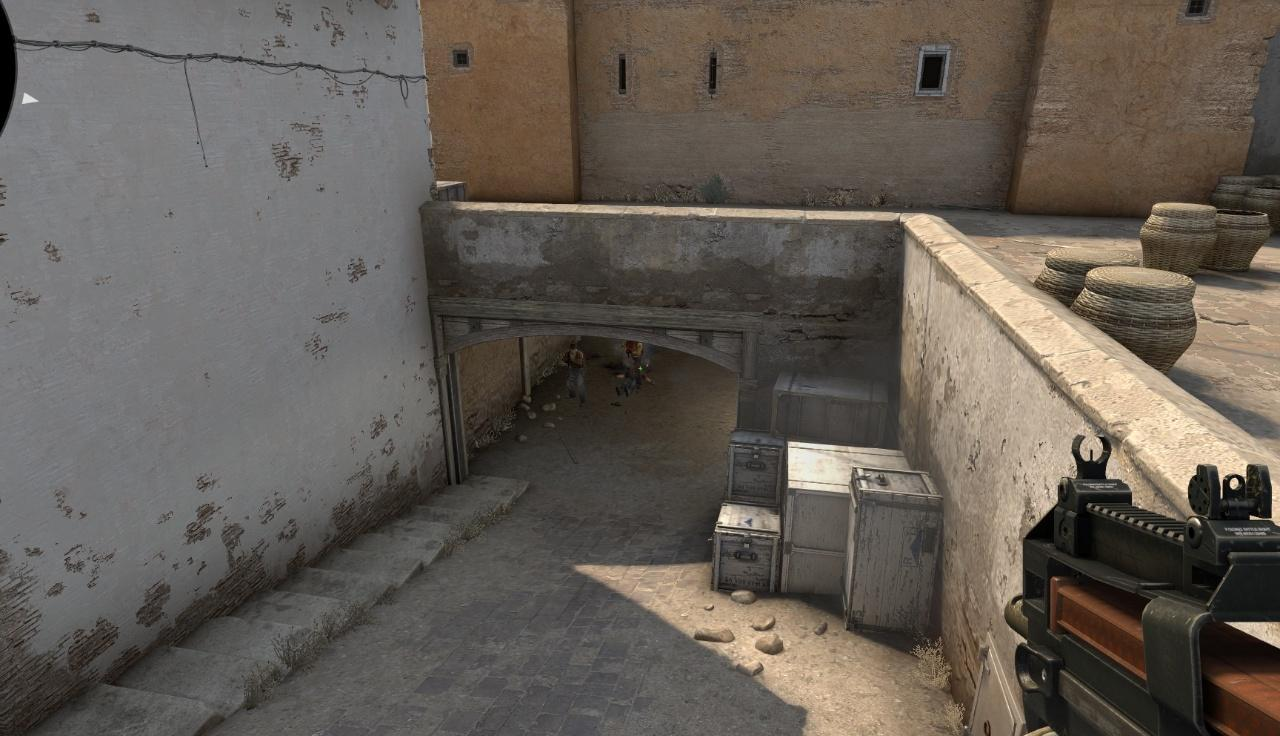rifle: (1004, 434, 1280, 736)
tt: (563, 345, 585, 408), (620, 340, 642, 392)
tthead: (570, 345, 576, 354)
